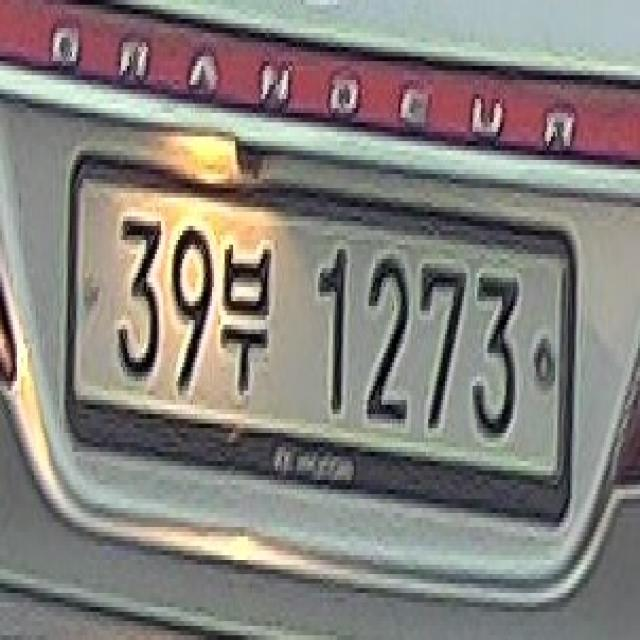1: (318, 250, 352, 423)
2: (364, 250, 416, 428)
3: (472, 268, 524, 442), (117, 212, 163, 386)
7: (420, 254, 468, 447)
9: (170, 221, 214, 395)
bu: (220, 230, 276, 404)
license_plate: (66, 160, 570, 489)
